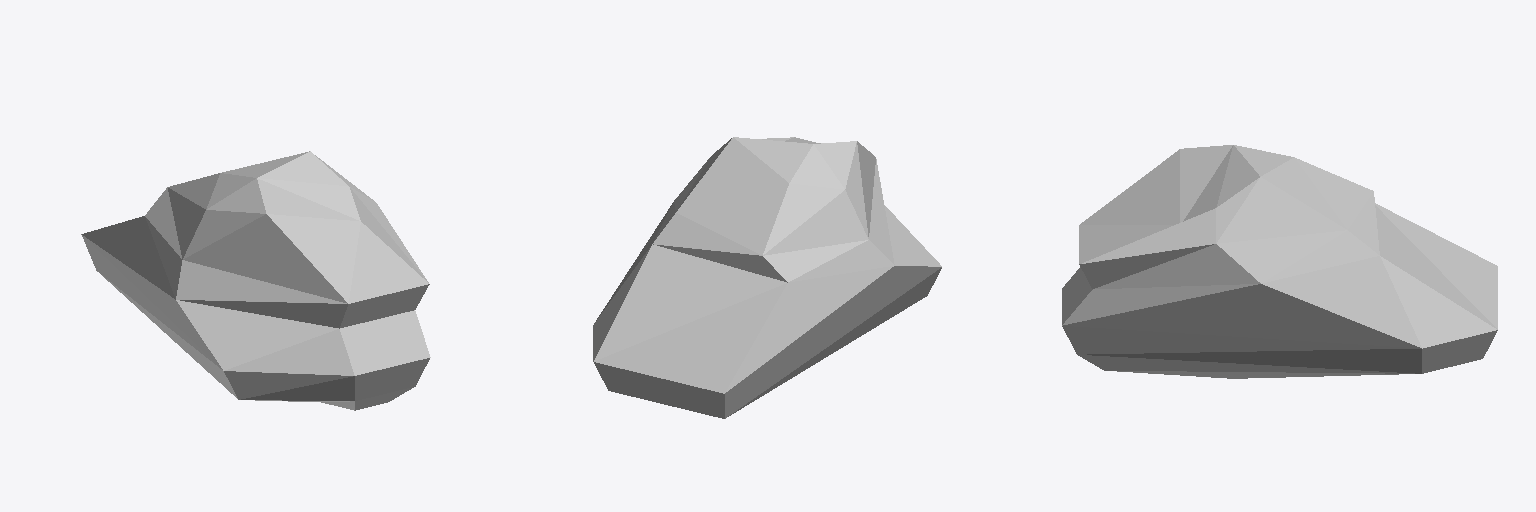
File: rock3.obj
The picture shows the model from 3 angles: view 1: azimuth 30°, elevation 25°; view 2: azimuth 150°, elevation 25°; view 3: azimuth 270°, elevation 25°; orthographic projection.
Parts seen in each view (by area): view 1: pasted__pasted__pSphere5 pasted__group65 group67; view 2: pasted__pasted__pSphere5 pasted__group65 group67; view 3: pasted__pasted__pSphere5 pasted__group65 group67.
Boxes of the visible parts, box(x1,y1,x2,y2) form: pasted__pasted__pSphere5 pasted__group65 group67: box(81, 151, 430, 410); pasted__pasted__pSphere5 pasted__group65 group67: box(593, 137, 941, 418); pasted__pasted__pSphere5 pasted__group65 group67: box(1062, 145, 1497, 378).
Size of the model in its own units: 2.66 by 2.48 by 4.86.